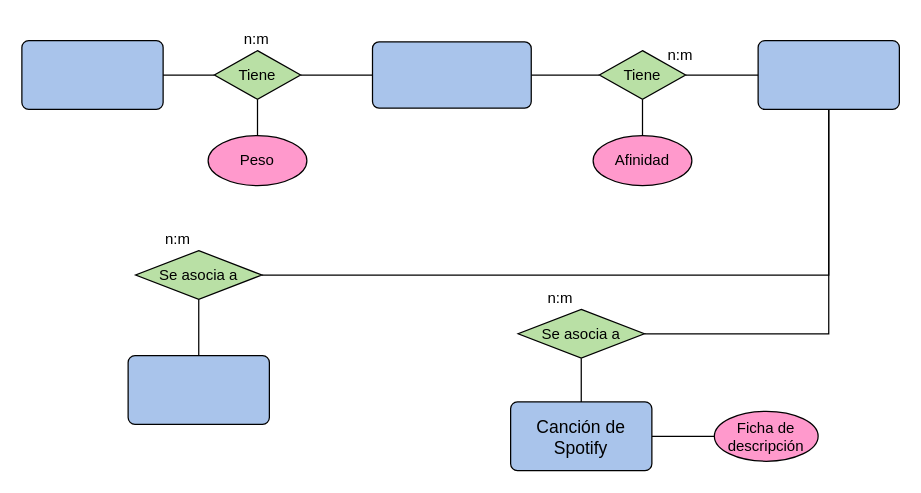
This 921x493 diagram has some shape labels left out. The centre of each missing label's shape, as x and y in pixels:
"Canción de LastFM" goes at (198,389).
"Etiqueta de The StoryGraph" goes at (451,74).
"Libro de The StoryGraph" goes at (92,74).
"Sinónimo de Thesaurus" goes at (828,74).
